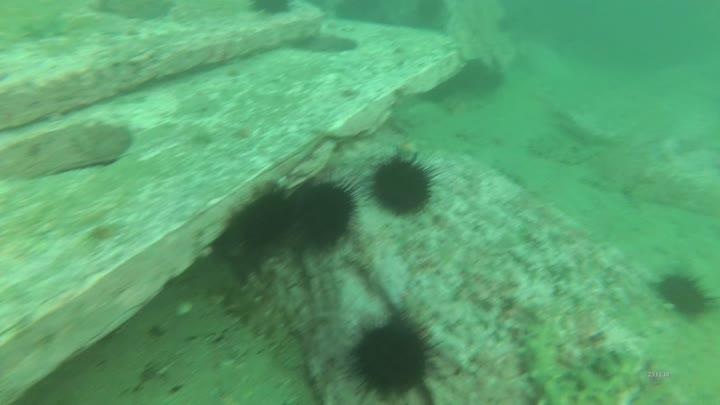urchin: (342, 309, 439, 399), (293, 176, 362, 252), (370, 146, 439, 217), (238, 187, 295, 247), (654, 267, 711, 322)
